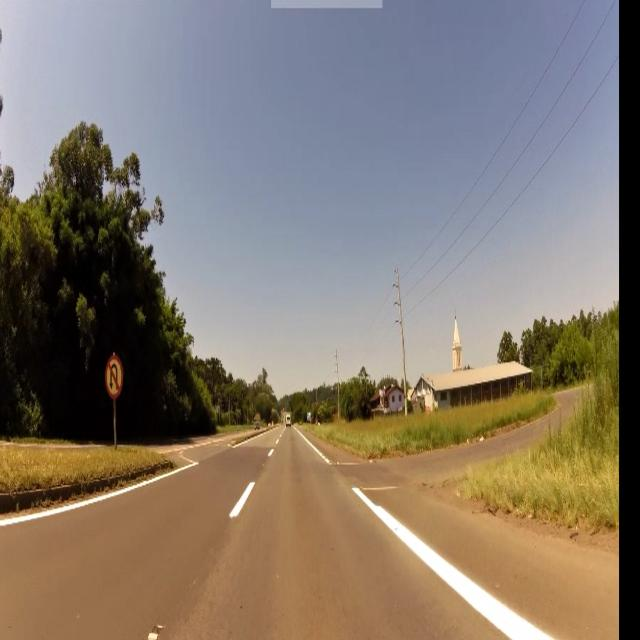R-5a: (103, 358, 125, 399)
